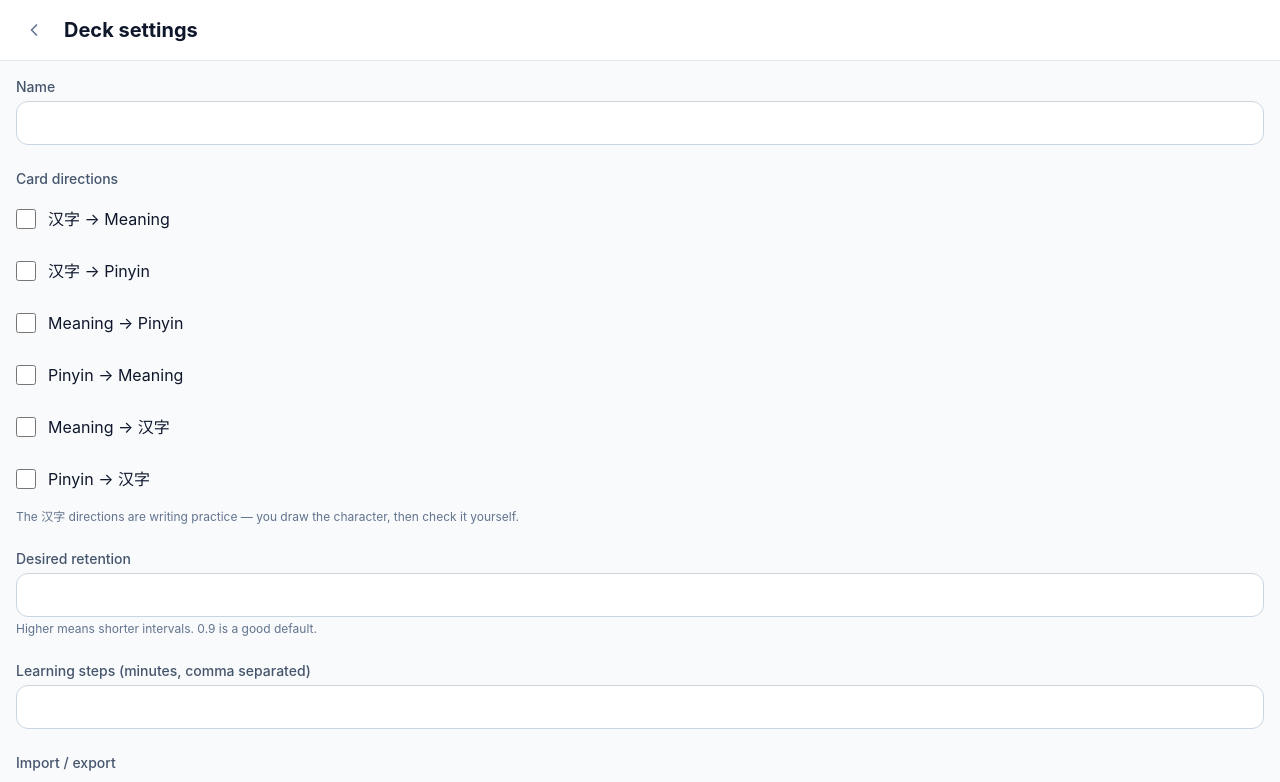
Test: DeckSettingsPage › rejects a blank learning steps value and restores the last saved value
Clear the field labelled "Learning steps (minutes, comma separated)" at point(640, 707), box [16, 685, 1264, 729]
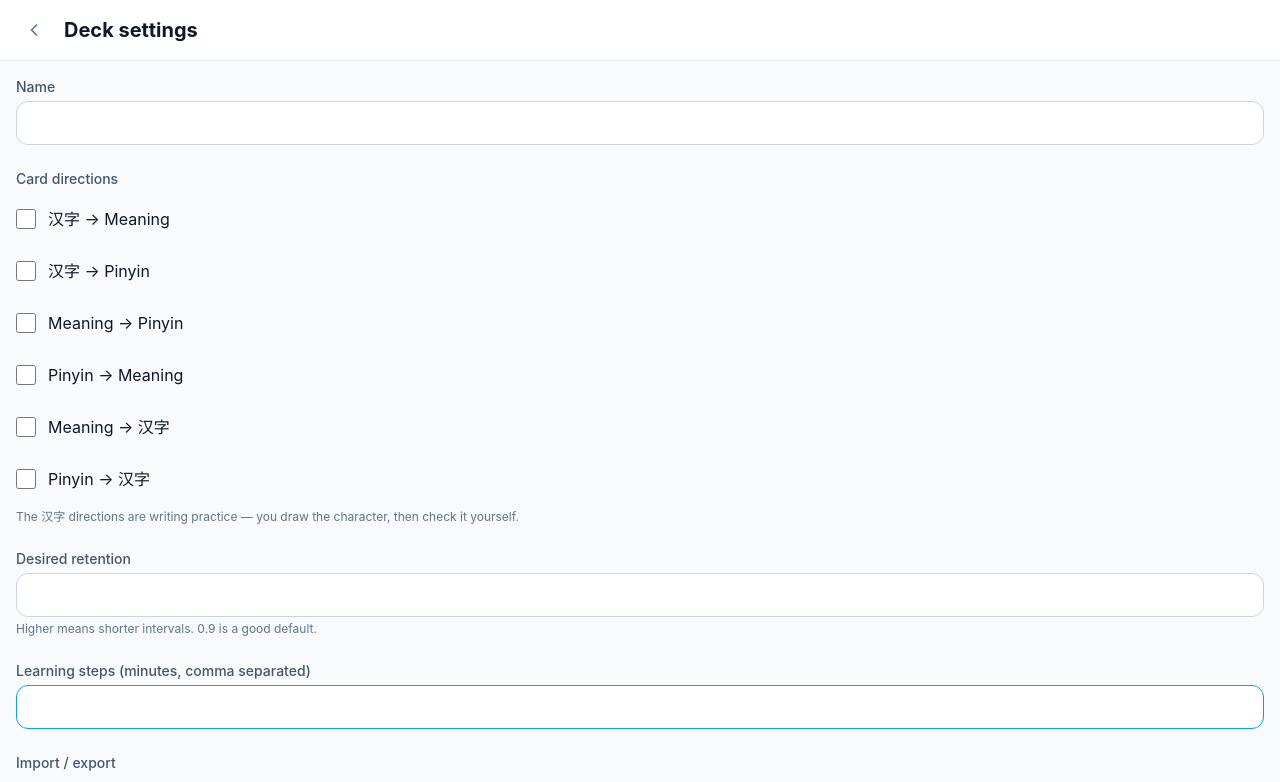
Press Tab
(page scrolled)
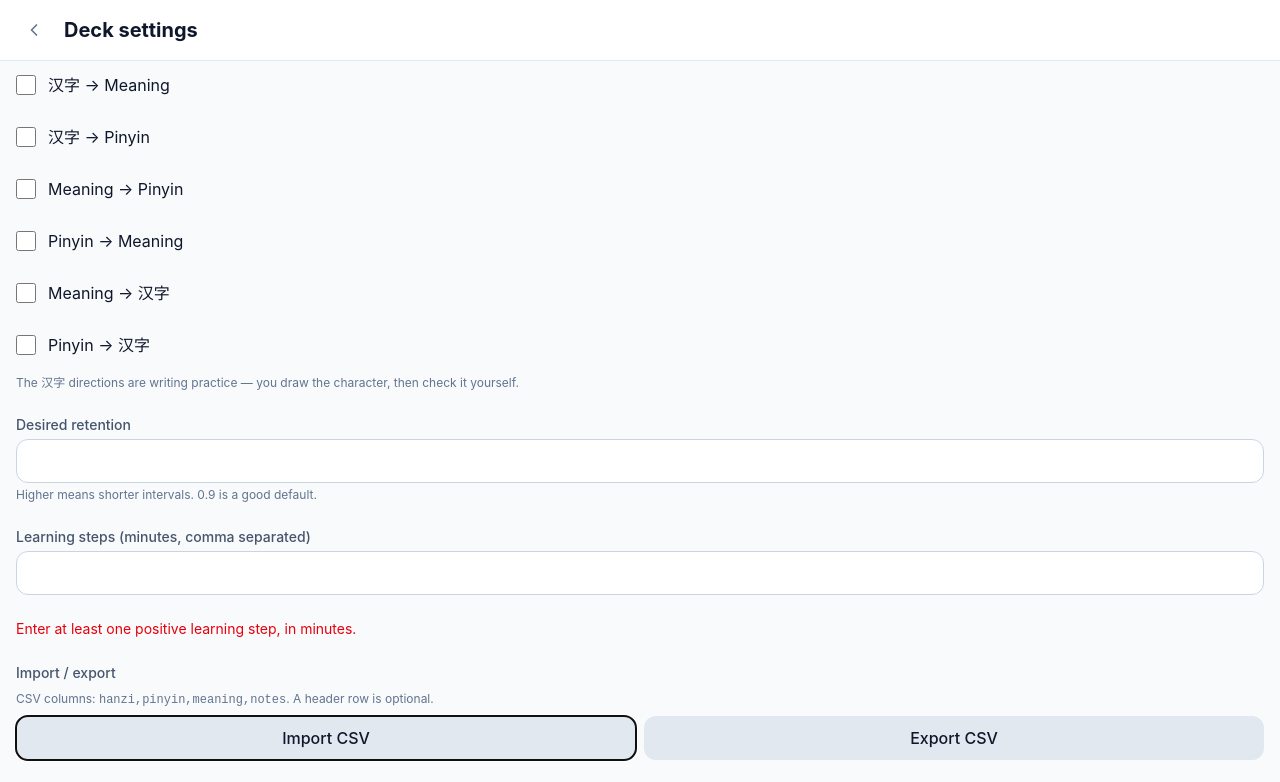
Expected: the text "Enter at least one positive learning step, in minutes." is shown, [16, 620, 356, 637]
